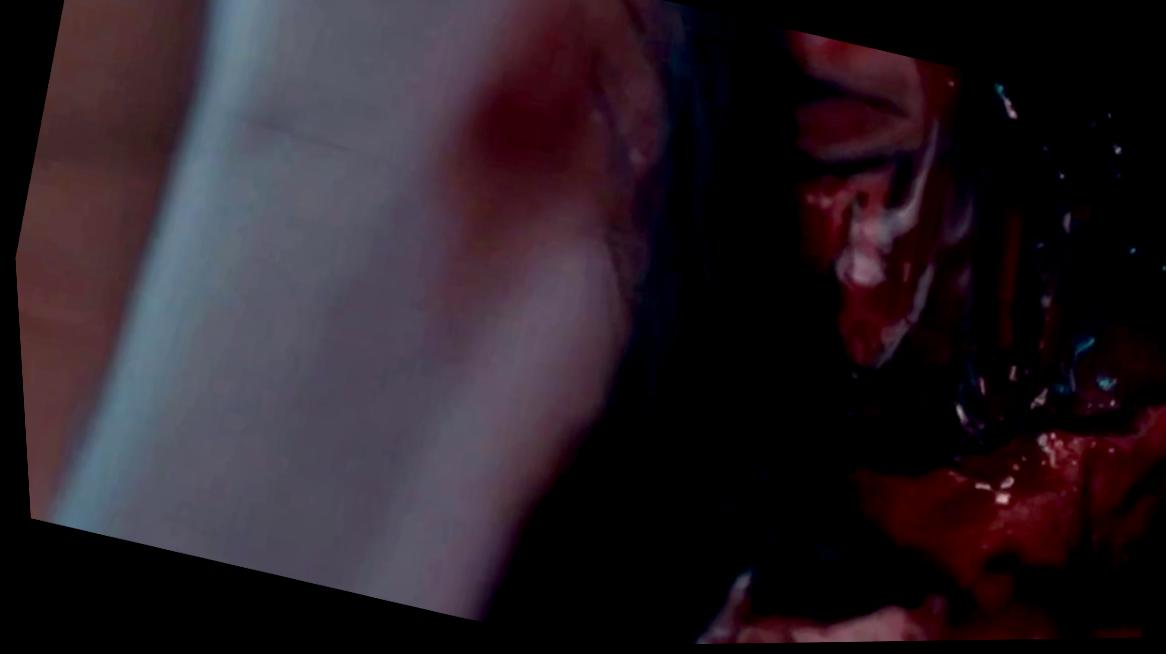Fire: (642, 10, 1166, 646)
